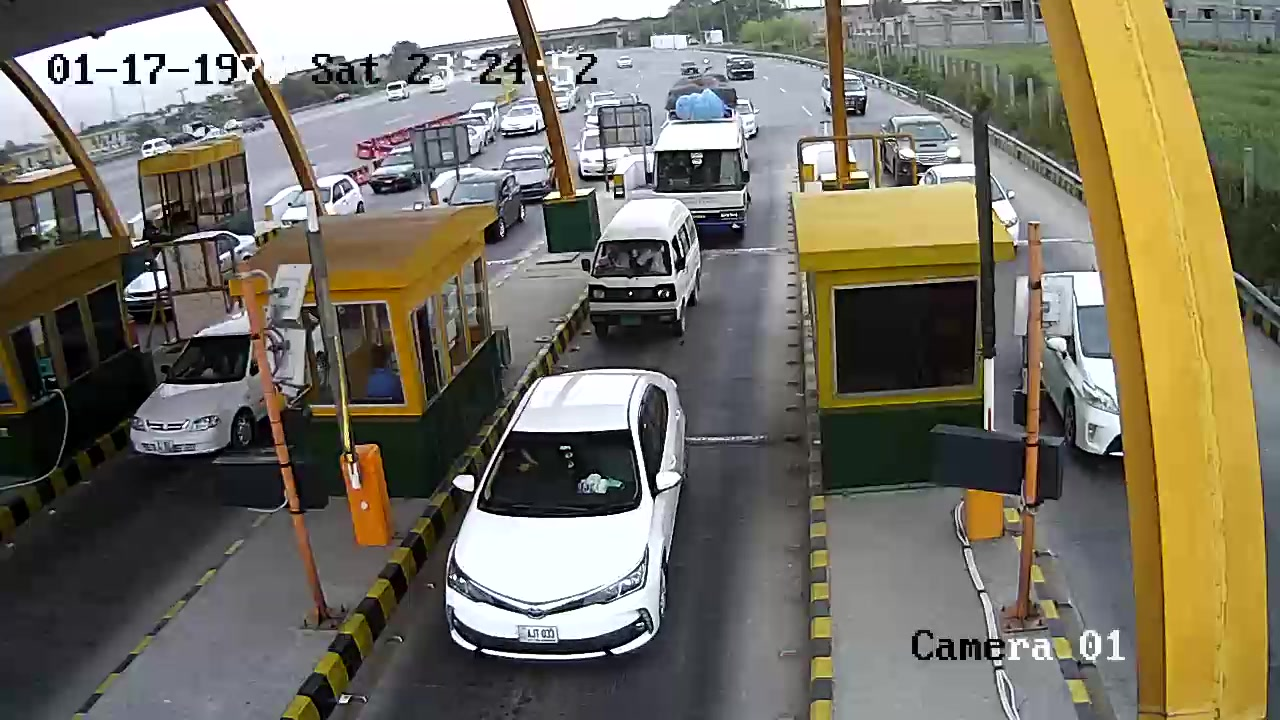F1: (434, 354, 698, 661)
